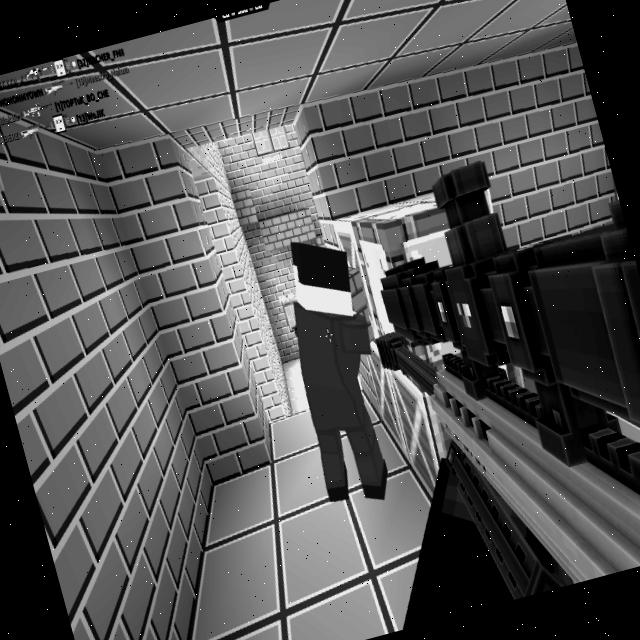Head: (281, 227, 363, 328)
Player: (261, 226, 416, 513)
